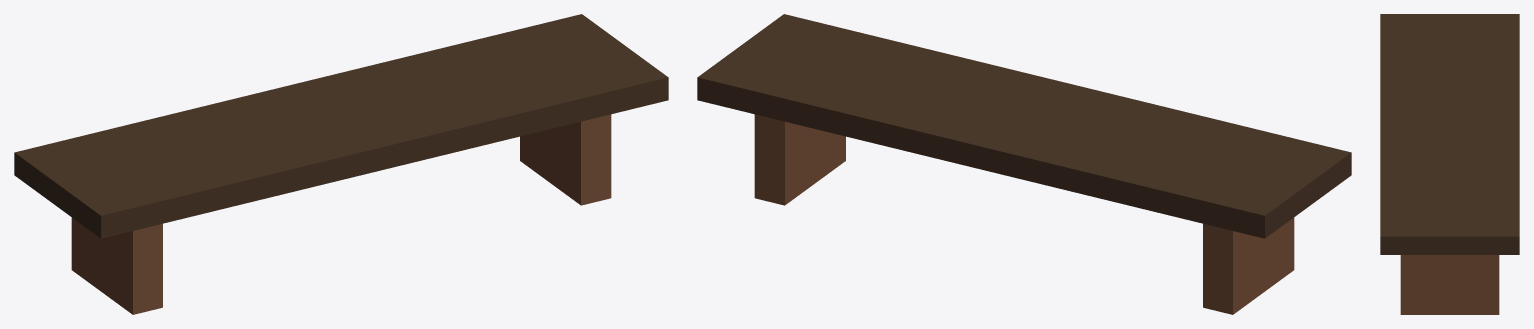
The model's file is Bench2.fbx.
The picture shows the model from 3 angles, left to right: view 1: azimuth 30°, elevation 25°; view 2: azimuth 150°, elevation 25°; view 3: azimuth 270°, elevation 25°; orthographic projection. The views are drawn at different scales.
Visible parts, largest first — view 1: Bench2; view 2: Bench2; view 3: Bench2.
Boxes of the visible parts, bbox=[...] form: Bench2: bbox=[14, 14, 668, 314]; Bench2: bbox=[697, 14, 1351, 314]; Bench2: bbox=[1380, 14, 1519, 314].
Bounding box in the file's own units: 253 × 50.92 × 67.
